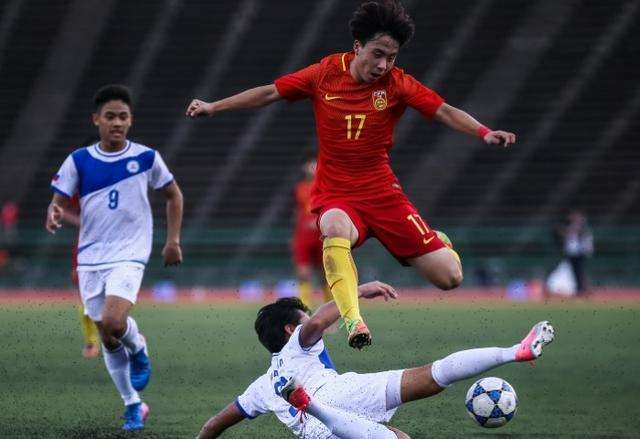football: (465, 376, 518, 429)
